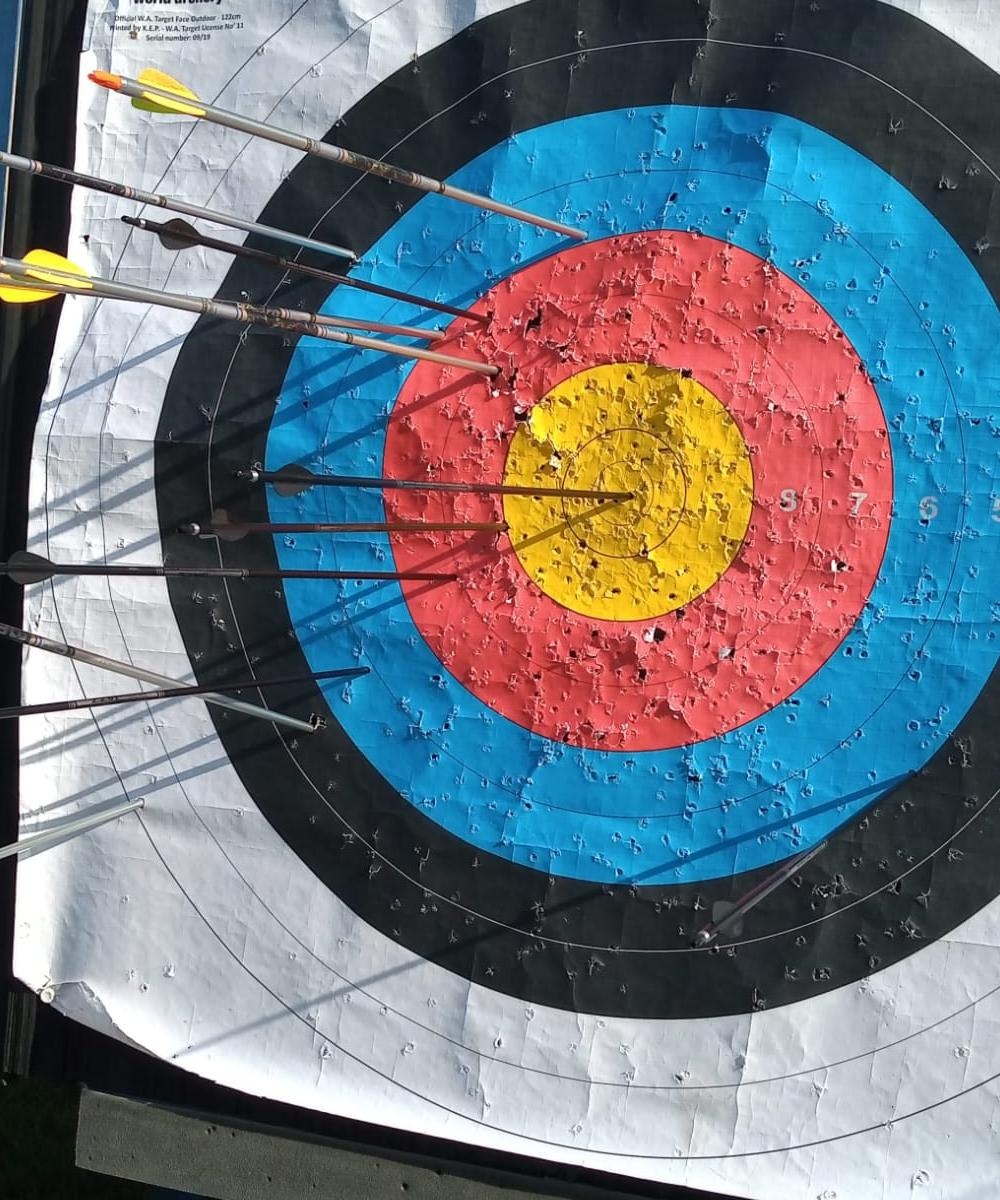10-Ring: (562, 431, 686, 558)
3-Ring: (163, 0, 1000, 1020)
4-Ring: (219, 36, 1000, 954)
5-Ring: (274, 100, 1000, 885)
6-Ring: (333, 163, 962, 818)
7-Ring: (377, 230, 898, 750)
8-Ring: (413, 272, 849, 712)
9-Ring: (468, 330, 786, 653)
Arrow: (84, 48, 589, 273), (0, 241, 502, 387), (117, 202, 491, 349), (0, 271, 445, 361), (0, 152, 357, 263), (0, 622, 315, 737), (237, 459, 631, 527), (0, 550, 456, 607), (680, 813, 831, 968), (0, 664, 371, 719), (176, 507, 507, 555), (0, 796, 147, 860)
